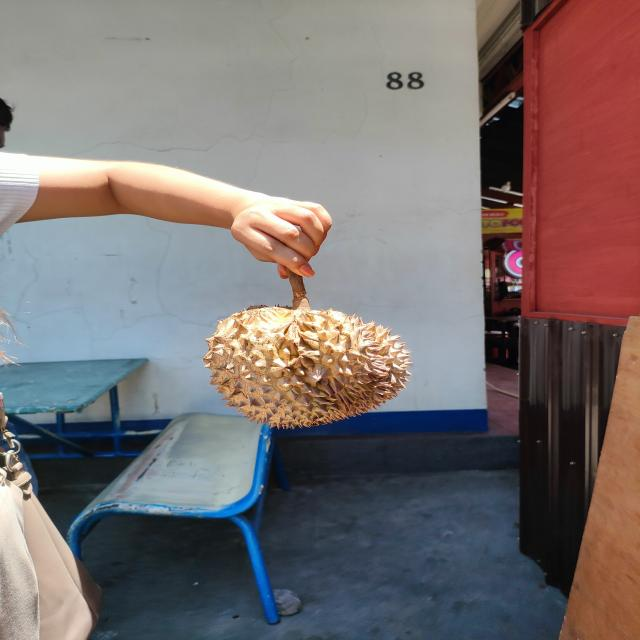mature: (202, 302, 413, 428)
